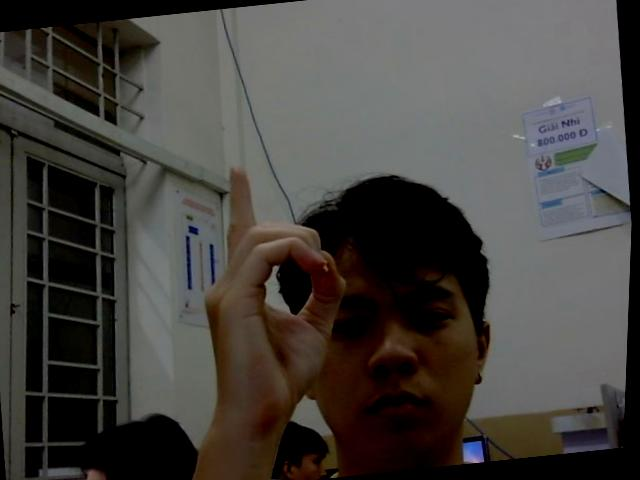D: (187, 155, 363, 420)
